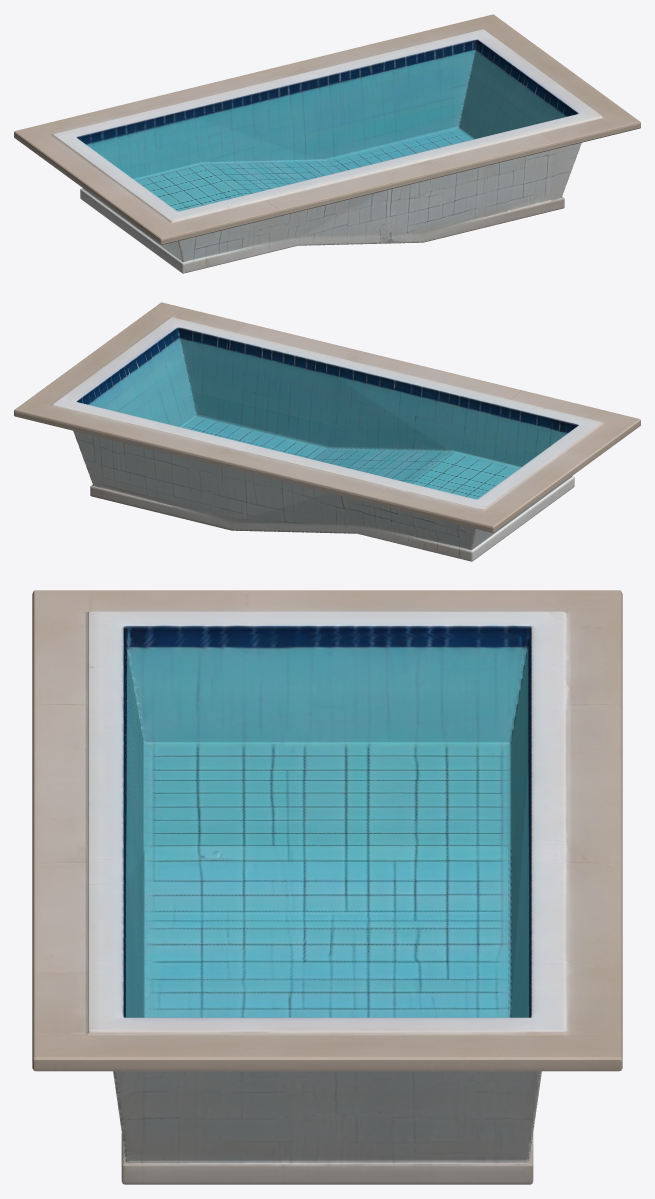
Rendered from swimming_pool.glb.
3 renders of one model, top to bottom at view 1: azimuth 30°, elevation 25°; view 2: azimuth 150°, elevation 25°; view 3: azimuth 270°, elevation 25°, orthographic. The views are drawn at different scales.
Parts seen in each view (by area): view 1: building; view 2: building; view 3: building.
Boxes of the visible parts, x1=… form: building: x1=14, y1=14, x2=640, y2=273; building: x1=14, y1=302, x2=640, y2=561; building: x1=32, y1=590, x2=622, y2=1184.
Bounding box in the file's own units: 1.91 × 0.3461 × 1.02.
Materials: 1 (1 with a texture image).
